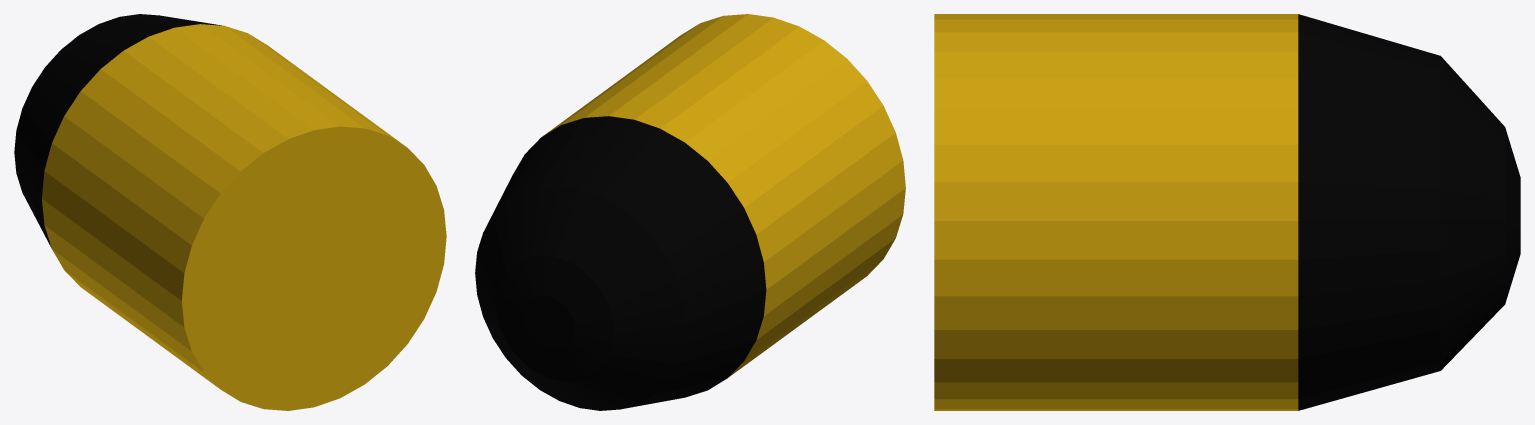
Rendered from bullet.glb.
3 views of the same model, side by side, from view 1: azimuth 30°, elevation 25°; view 2: azimuth 150°, elevation 25°; view 3: azimuth 270°, elevation 25° (orthographic). The views are drawn at different scales.
Parts seen in each view (by area): view 1: Cylinder; view 2: Cylinder; view 3: Cylinder.
Part boxes in pixels (x1,y1,x2,y2): Cylinder: (14,14,446,410); Cylinder: (475,14,905,410); Cylinder: (934,14,1520,410).
Bounding box in the file's own units: 2 × 2 × 2.95.
1 material, 1 textured.
